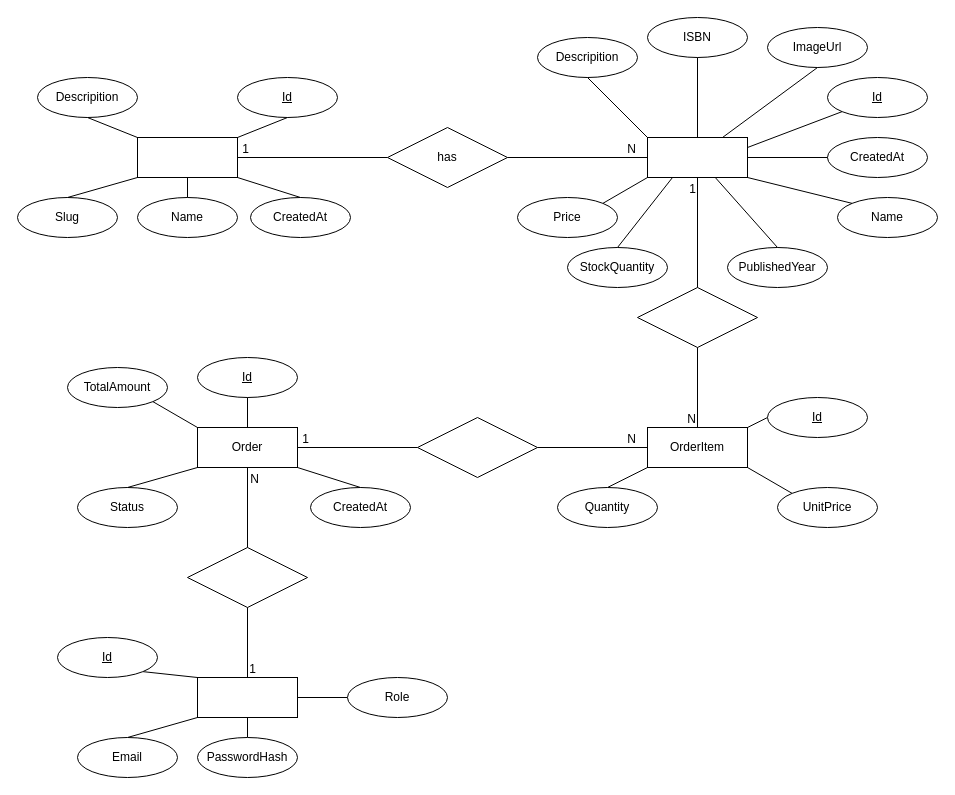
This 955x795 diagram has some shape labels left out. Each missing label, with the centre of its shape:
Category: point 187,157
contains: point 477,447
places: point 247,577
Products: point 697,157
refers_to: point 697,317
User: point 247,697
